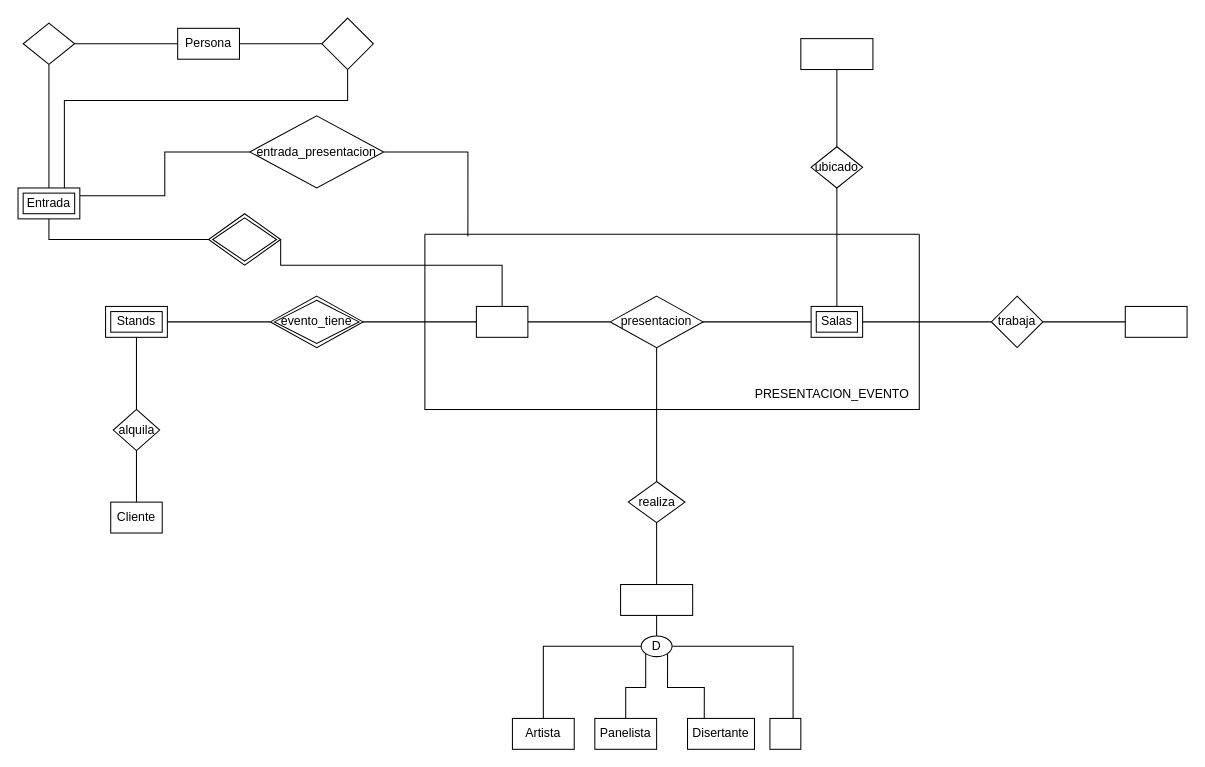
The diagram is 1205 pixels wide and 767 high, and some of its shapes have lost their labels. Each missing label, with the centre of its shape:
"asiste" goes at (347,43).
"compra" goes at (48,43).
"Empleado" goes at (1155,321).
"Evento" goes at (501,321).
"Locaciones" goes at (836,54).
"Otro" goes at (785,733).
"pertenece" goes at (244,239).
"Presentador" goes at (656,599).
